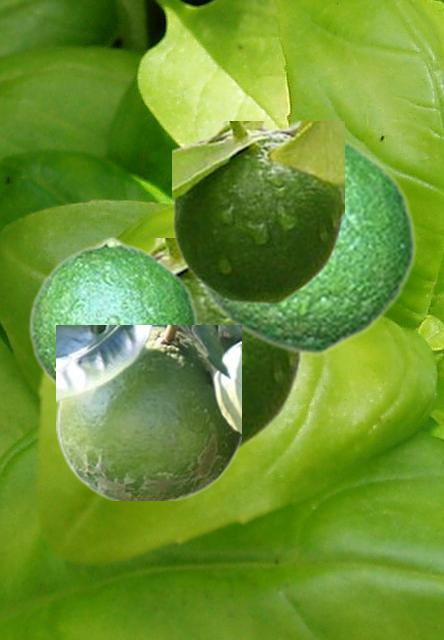dalandan: (190, 119, 416, 355), (147, 238, 302, 453), (56, 325, 240, 499), (172, 121, 343, 303), (27, 236, 198, 389)
